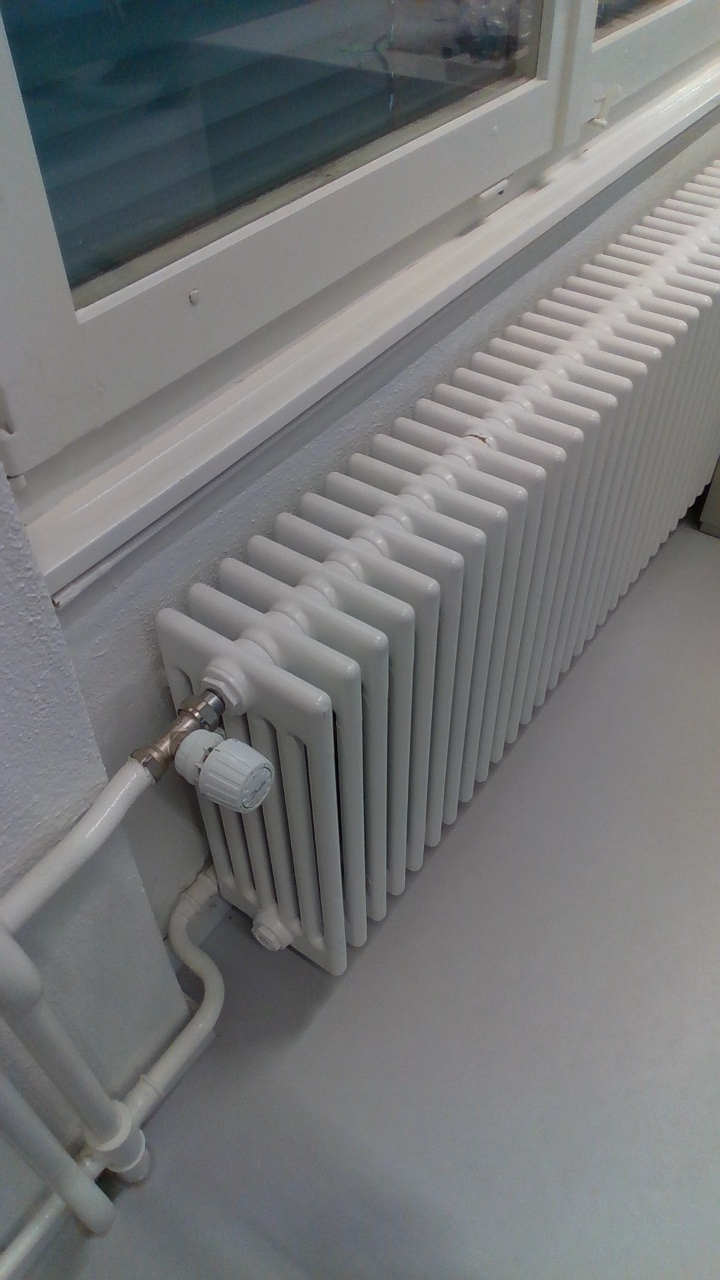Knob_Radiator: (156, 720, 287, 821)
Radiator: (144, 140, 716, 997)
